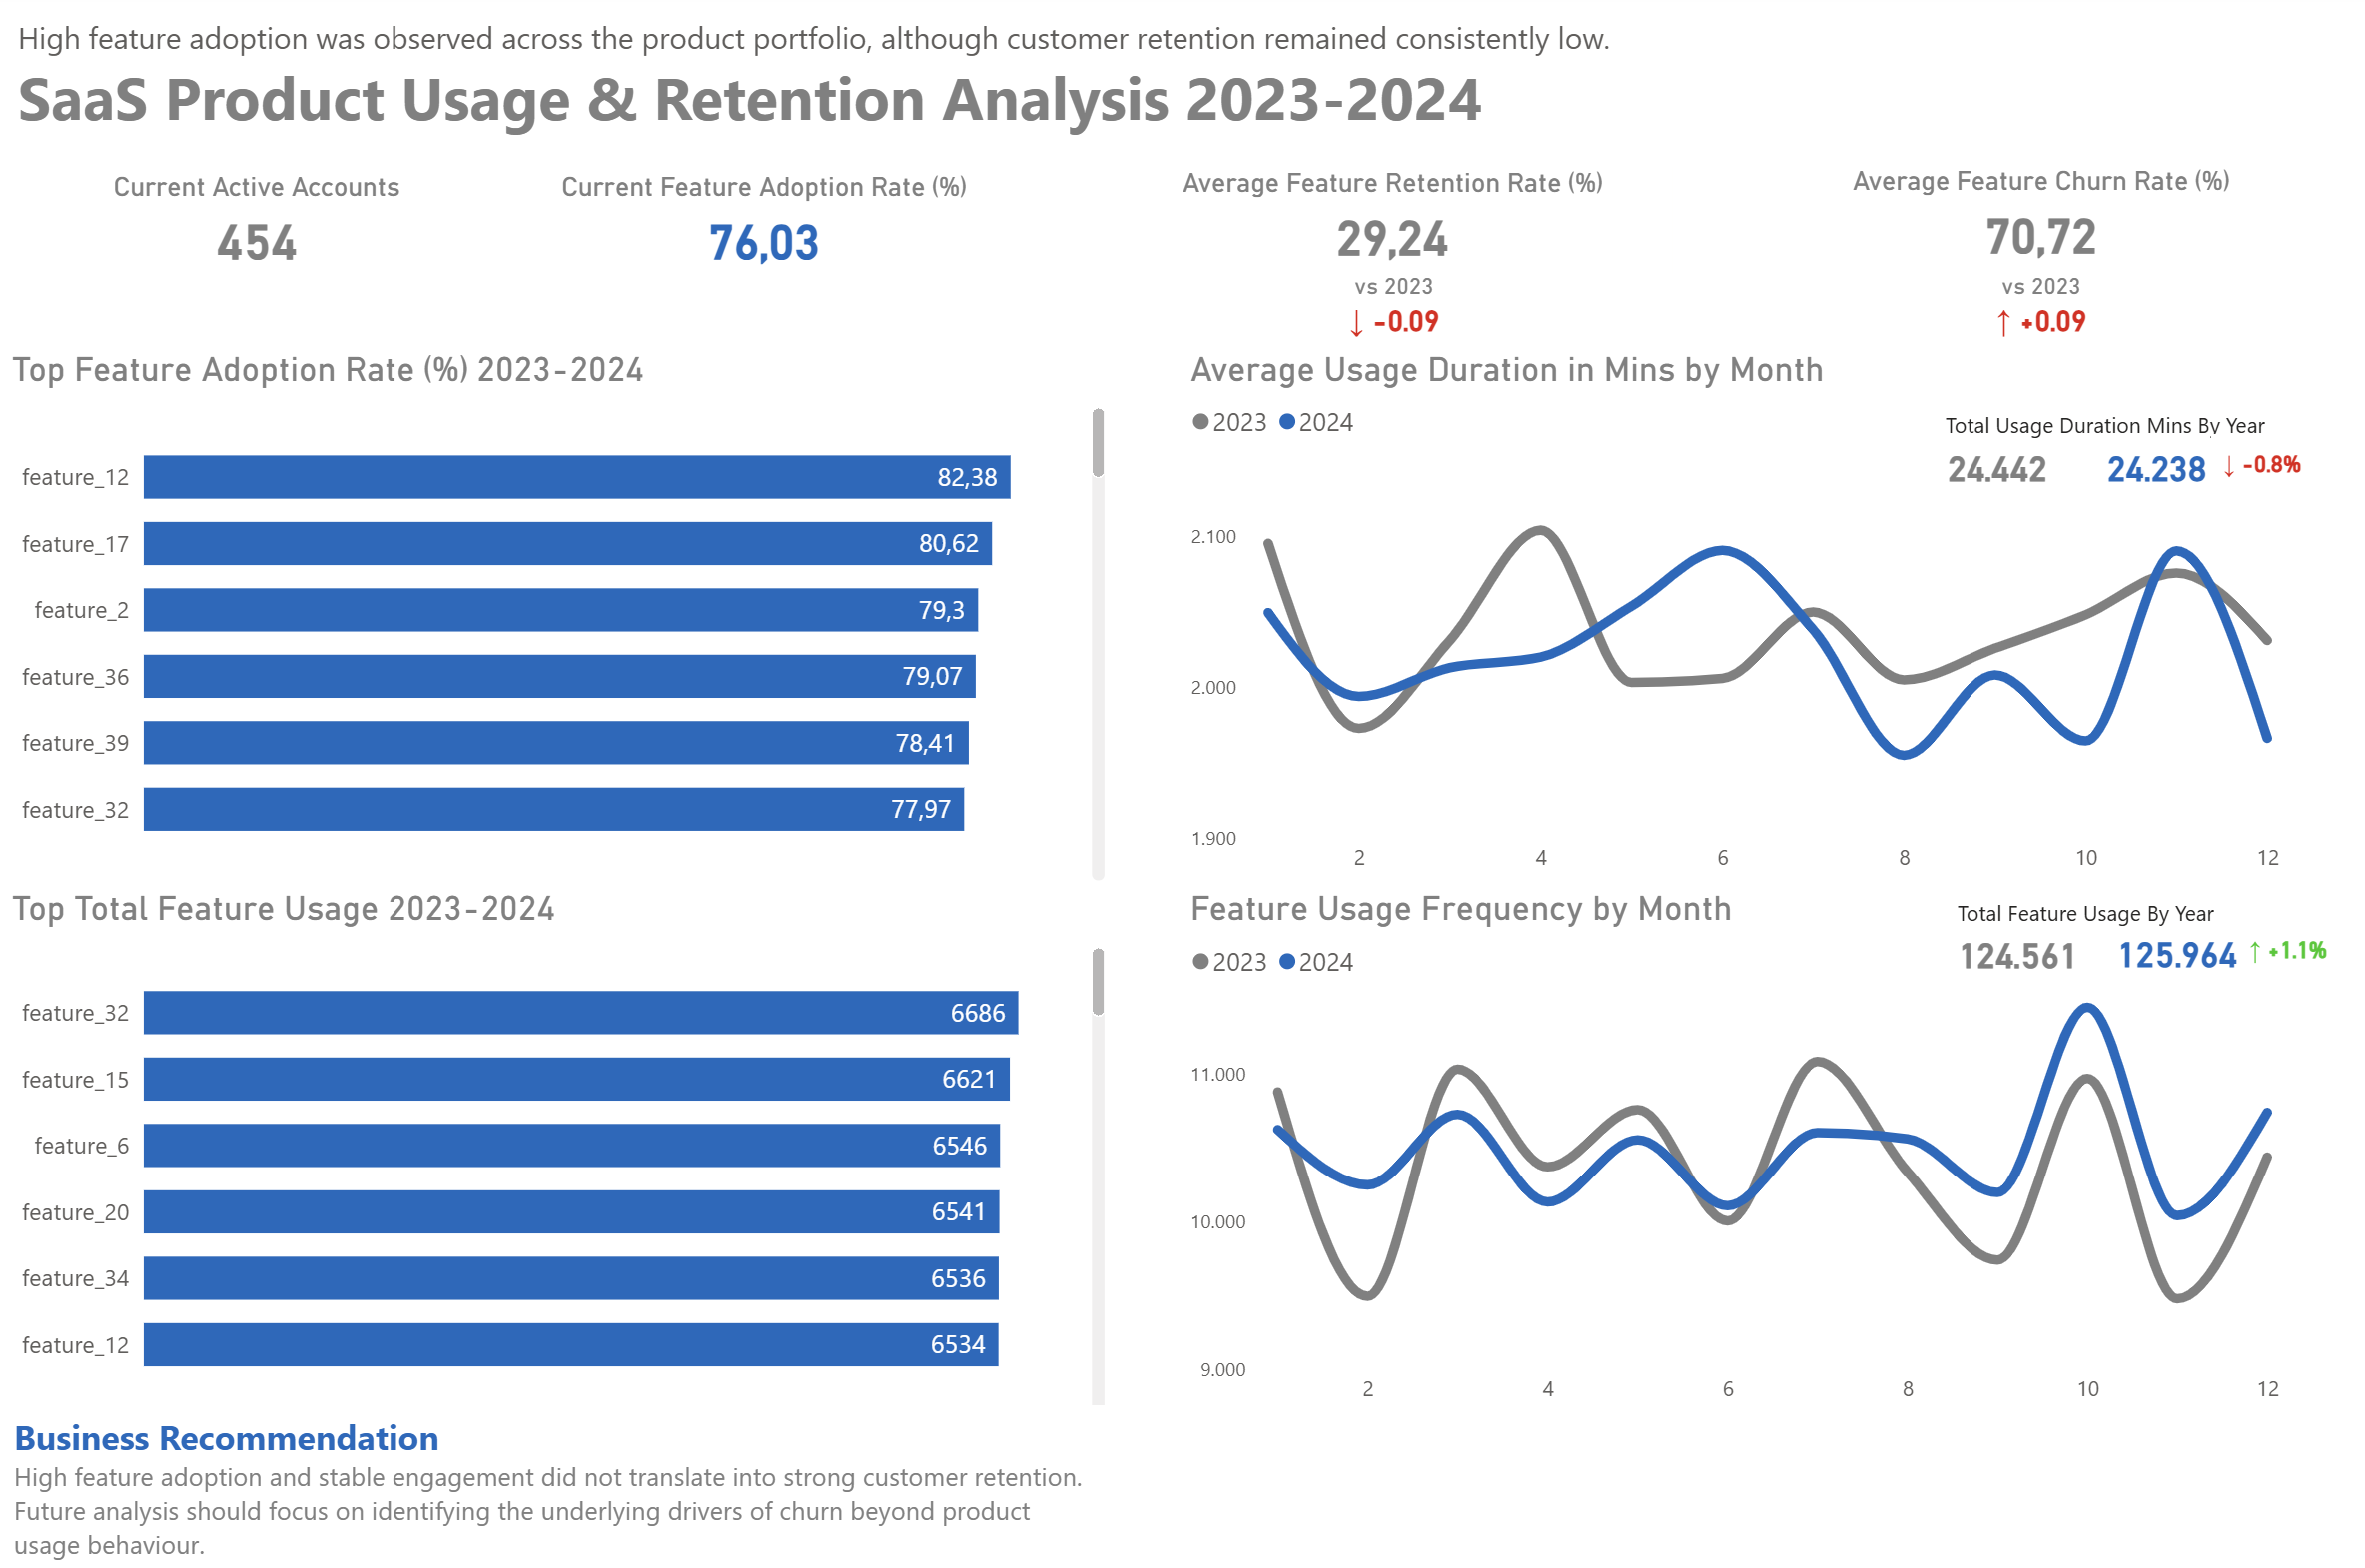

The page's visual inventory and layout, read from the dashboard file:
{"tool":"powerbi","page":{"name":"SaaS Dashboard","canvas":[1500,1000],"ordinal":0},"visuals":[{"type":"textbox","box":[11.3,11.3,1061.6,99.4],"z":0},{"type":"card","title":"Current Active Accounts","fields":{"Values":["Max(saas_startup view_feature_adoption.total_active_accounts)"]},"box":[30.1,113.4,273.2,66],"z":1000},{"type":"card","title":"Current Feature Adoption Rate (%)","fields":{"Values":["Avg(saas_startup view_feature_adoption.feature_adoption_rate_pct)"]},"box":[319.7,113.4,333.3,66.9],"z":2000},{"type":"card","title":"Average Feature Retention Rate (%)","fields":{"Values":["saas_startup view_retention_churn.Retention 2024"]},"box":[706.3,110.7,352.5,66.9],"z":3000},{"type":"card","title":"Average Feature Churn Rate (%)","fields":{"Values":["Avg(saas_startup view_retention_churn.churn_rate_pct)"]},"box":[1110.7,109.3,359.3,66],"z":4000},{"type":"clusteredBarChart","title":"Top Feature Adoption Rate (%) 2023-2024","fields":{"Category":["saas_startup view_feature_adoption.feature_name"],"Y":["Sum(saas_startup view_feature_adoption.feature_adoption_rate_pct)"]},"box":[7.5,225.2,698.1,340],"z":5000},{"type":"clusteredBarChart","title":"Top Total Feature Usage 2023-2024","fields":{"Category":["saas_startup view_total_feature_usage.feature_name"],"Y":["Sum(saas_startup view_total_feature_usage.total_feature_usage)"]},"box":[7.5,564.8,698.1,335],"z":6000},{"type":"lineChart","title":"Average Usage Duration in Mins by Month","fields":{"Y":["Sum(saas_startup view_tot_avg_usage_duration_mins.avg_usage_duration_mins)"],"Category":["saas_startup view_tot_avg_usage_duration_mins.month"],"Series":["saas_startup view_tot_avg_usage_duration_mins.year"]},"box":[749.7,225.2,698.1,340],"z":7000},{"type":"lineChart","title":"Feature Usage Frequency by Month","fields":{"Y":["Sum(saas_startup view_tot_feature_usage_frequency.feature_usage_frequency)"],"Category":["saas_startup view_tot_feature_usage_frequency.month"],"Series":["saas_startup view_tot_feature_usage_frequency.year"]},"box":[749.7,564.8,698.1,335],"z":8000},{"type":"card","title":"vs 2023","fields":{"Values":["saas_startup view_retention_churn.Retention Delta Label"]},"box":[776.1,177.4,213.8,45],"z":9000},{"type":"card","title":"vs 2023","fields":{"Values":["saas_startup view_retention_churn.Churn Delta Label"]},"box":[1183.6,177.4,213.8,45],"z":10000},{"type":"textbox","box":[8.8,890.6,694.3,109.4],"z":11000},{"type":"card","title":"2023 Total Usage (Mins)","fields":{"Values":["Sum(saas_startup view_tot_avg_usage_duration_mins.avg_usage_duration_mins)"]},"box":[1313,279.9,100,40],"z":12000},{"type":"card","title":"2023 Total Usage (Mins)","fields":{"Values":["Sum(saas_startup view_tot_avg_usage_duration_mins.avg_usage_duration_mins)"]},"box":[1212.5,279.9,100.5,40.7],"z":13000},{"type":"textbox","box":[1225,259.5,227.7,29.3],"z":14000},{"type":"card","title":"2023 Total Usage (Mins)","fields":{"Values":["Sum(saas_startup view_tot_feature_usage_frequency.feature_usage_frequency)"]},"box":[1224.6,586,101.3,41.9],"z":15000},{"type":"card","title":"2023 Total Usage (Mins)","fields":{"Values":["Sum(saas_startup view_tot_feature_usage_frequency.feature_usage_frequency)"]},"box":[1325.7,586.5,100.5,40.7],"z":16000},{"type":"textbox","box":[1233,565.7,218.7,32.4],"z":16001},{"type":"card","fields":{"Values":["saas_startup view_tot_feature_usage_frequency.Usage Frequency YoY Label"]},"box":[1413.8,585,64,40],"z":16002},{"type":"card","fields":{"Values":["saas_startup view_tot_avg_usage_duration_mins.Usage Duration Mins YoY Label"]},"box":[1397.5,279.2,64.2,40.3],"z":16003}]}

Visuals, with their boxes in screenshot pixels (x1, y1, x2, y2), scaled from the page's 1500x1000 canvas onto the 2365x1568 screenshot:
textbox: box(18, 18, 1692, 174)
"Current Active Accounts" card: box(48, 178, 478, 282)
"Current Feature Adoption Rate (%)" card: box(504, 178, 1030, 283)
"Average Feature Retention Rate (%)" card: box(1114, 174, 1669, 279)
"Average Feature Churn Rate (%)" card: box(1751, 172, 2318, 275)
"Top Feature Adoption Rate (%) 2023-2024" clusteredBarChart: box(12, 354, 1113, 886)
"Top Total Feature Usage 2023-2024" clusteredBarChart: box(12, 886, 1113, 1411)
"Average Usage Duration in Mins by Month" lineChart: box(1182, 354, 2283, 886)
"Feature Usage Frequency by Month" lineChart: box(1182, 886, 2283, 1411)
"vs 2023" card: box(1223, 279, 1561, 349)
"vs 2023" card: box(1867, 279, 2203, 349)
textbox: box(14, 1396, 1109, 1567)
"2023 Total Usage (Mins)" card: box(2070, 438, 2228, 501)
"2023 Total Usage (Mins)" card: box(1912, 438, 2070, 502)
textbox: box(1932, 406, 2290, 452)
"2023 Total Usage (Mins)" card: box(1931, 919, 2090, 985)
"2023 Total Usage (Mins)" card: box(2090, 920, 2248, 984)
textbox: box(1944, 887, 2289, 938)
card - saas_startup view_tot_feature_usage_frequency.Usage Frequency YoY Label: box(2229, 917, 2330, 980)
card - saas_startup view_tot_avg_usage_duration_mins.Usage Duration Mins YoY Label: box(2203, 437, 2305, 501)
